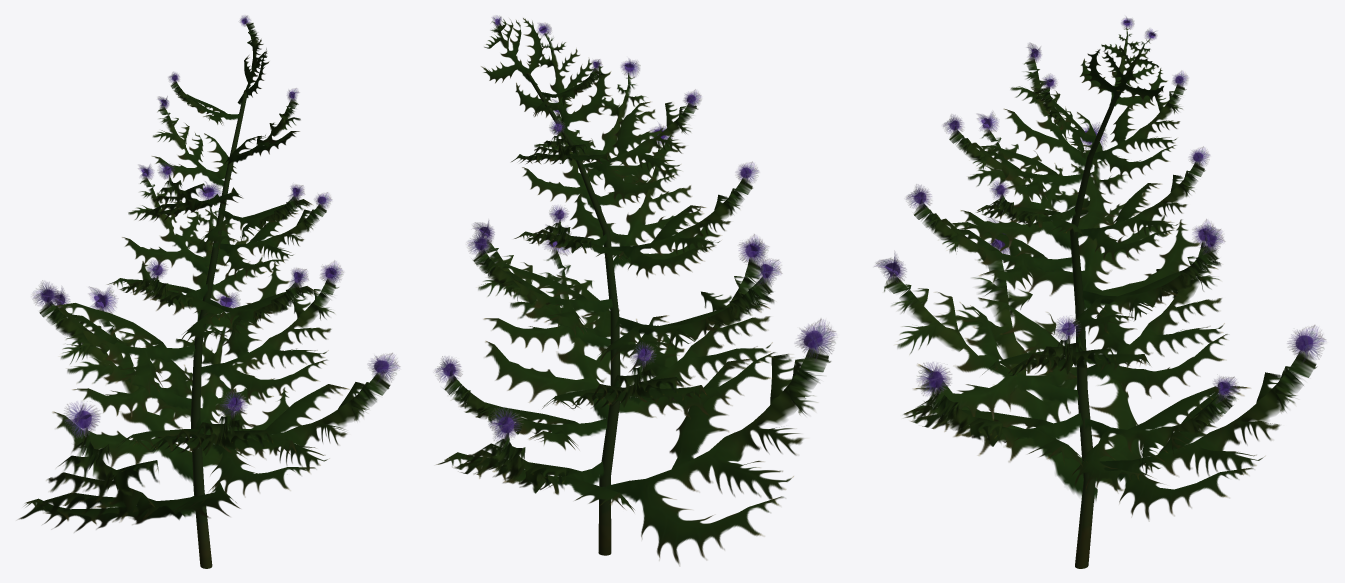
File: thistle.glb
3 renders of one model, left to right at view 1: azimuth 30°, elevation 25°; view 2: azimuth 150°, elevation 25°; view 3: azimuth 270°, elevation 25°, orthographic. The views are drawn at different scales.
Parts seen in each view (by area): view 1: Trunk_01 - Default_0; view 2: Trunk_01 - Default_0; view 3: Trunk_01 - Default_0.
Part boxes in pixels (bbox=[...]): Trunk_01 - Default_0: bbox=[18, 15, 400, 568]; Trunk_01 - Default_0: bbox=[434, 15, 836, 565]; Trunk_01 - Default_0: bbox=[874, 16, 1326, 568].
Size of the model in its own units: 1.12 by 1.74 by 1.26.
1 material, 1 textured.
